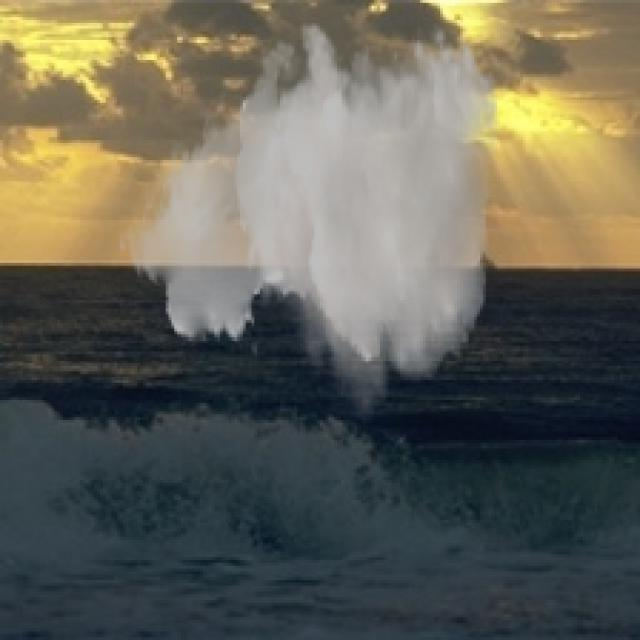smoke: (117, 20, 500, 429)
